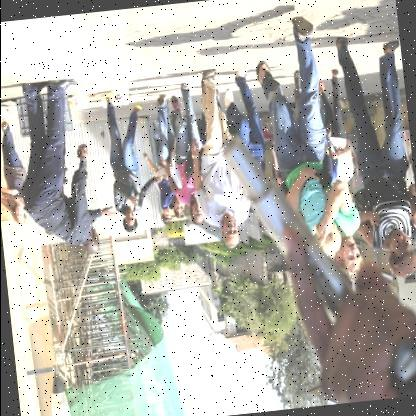rifle: (215, 116, 416, 404)
